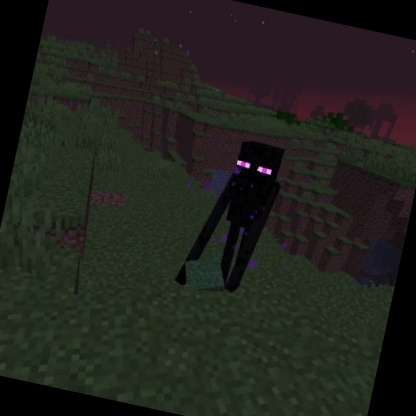enderman: (170, 129, 290, 305)
